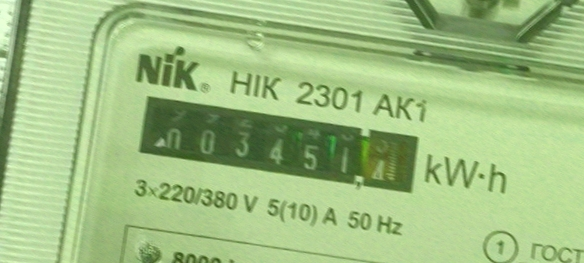0: (162, 121, 184, 150), (197, 124, 218, 154)
1: (335, 141, 354, 173)
3: (231, 125, 253, 158)
4: (265, 132, 288, 166), (366, 153, 389, 183)
5: (300, 138, 320, 171)
screen: (130, 88, 426, 199)
